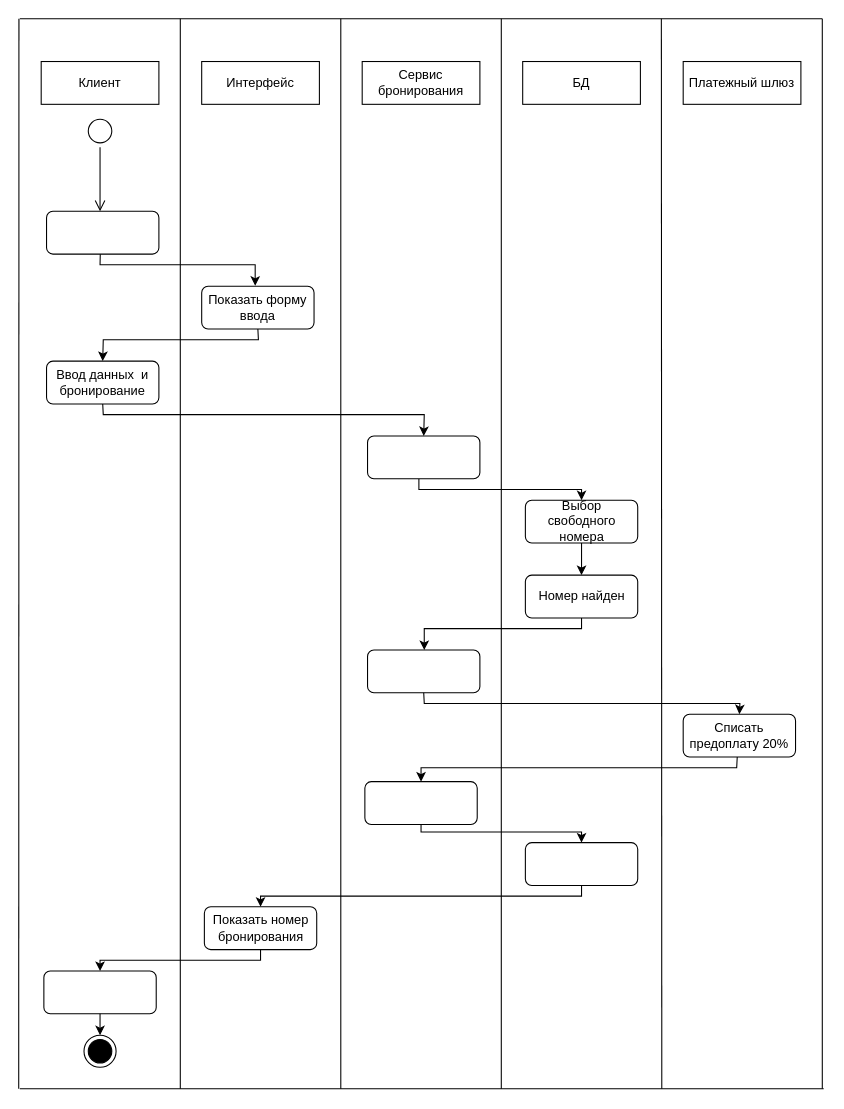
Some shapes in this 844 by 1109 pixel diagram are drawn without their labels. The centre of each missing label's shape, as x and y in pixels:
"Выбор даты и тип номера" belongs at (102,232).
"Забронировать номер" belongs at (423,671).
"Подтвердить бронь" belongs at (420,802).
"Получить подтверждение брони" belongs at (99,992).
"Проверить доступность" belongs at (423,457).
"Сохранить бронь и сгенерировать id" belongs at (581,863).
